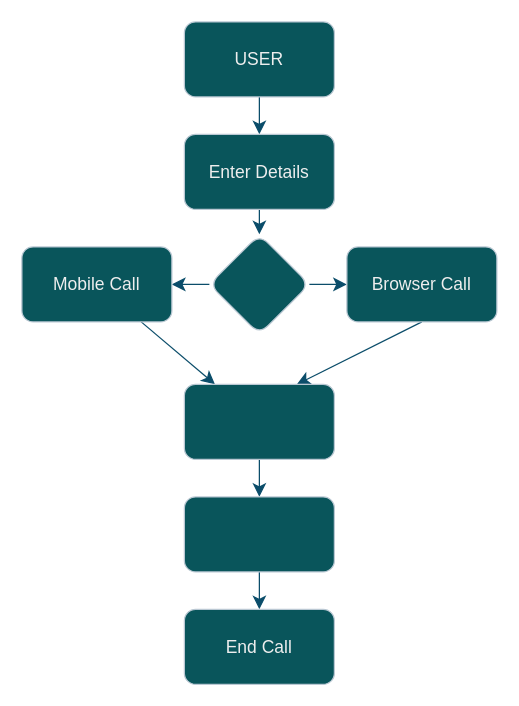
The diagram is 519 pixels wide and 706 high, and some of its shapes have lost their labels. The shapes that lost their labels are listed below. From the top down, each one's centre as x and y in pixels, then its label:
At (x=258, y=283): "Select".
At (x=258, y=421): "Start Call".
At (x=258, y=534): "Live Session Screen".
